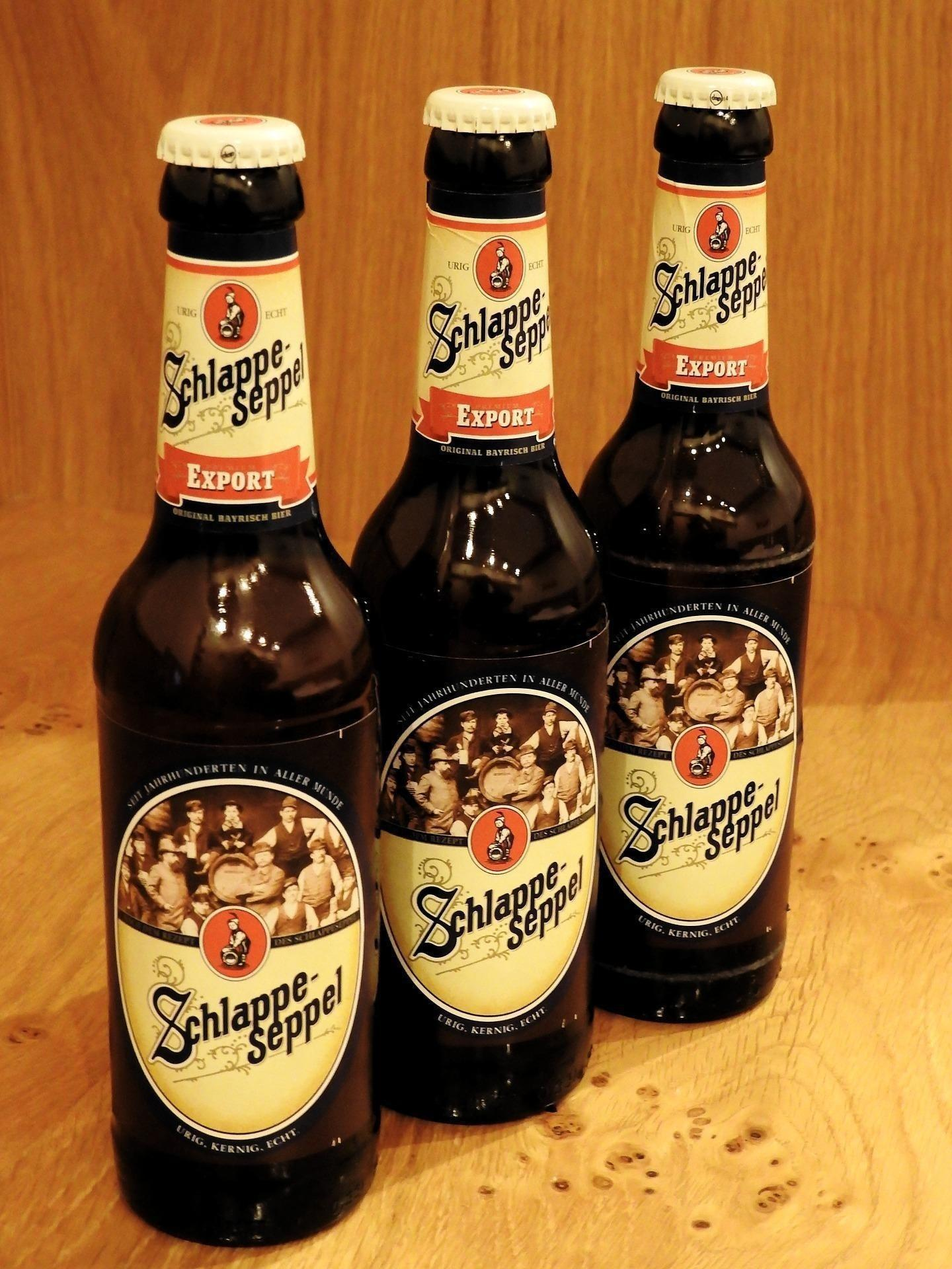bottle-glass: (80, 105, 395, 1262), (338, 77, 605, 1139), (580, 61, 819, 1027)
